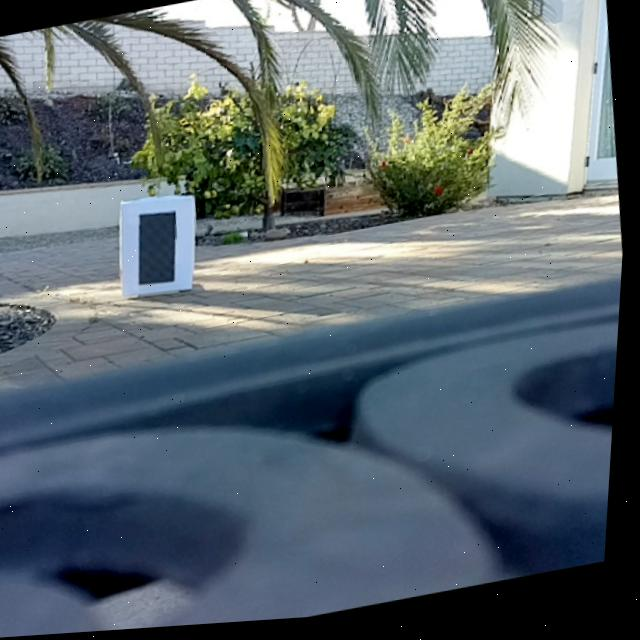led: (133, 206, 188, 291)
